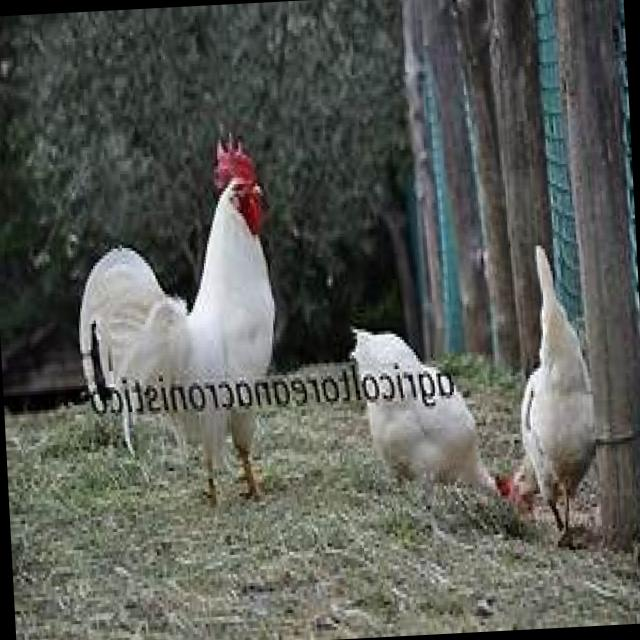animal: (67, 136, 282, 512), (349, 322, 514, 514), (512, 246, 602, 545)
